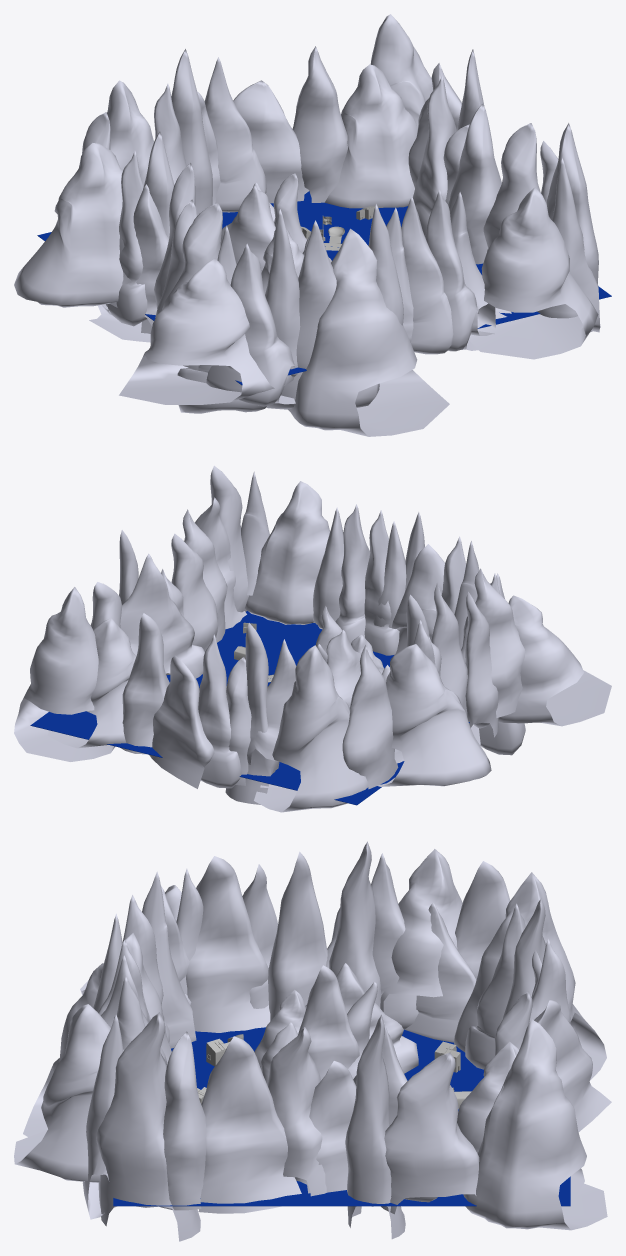
The model's file is fbx combined.fbx.
The picture shows the model from 3 angles, top to bottom: view 1: azimuth 30°, elevation 25°; view 2: azimuth 150°, elevation 25°; view 3: azimuth 270°, elevation 25°; orthographic projection. The views are drawn at different scales.
Visible parts, largest first — view 1: pCone46; view 2: pCone46; view 3: pCone46.
Part boxes in pixels (<box>): pCone46: <box>14,14,611,436</box>; pCone46: <box>14,465,611,812</box>; pCone46: <box>14,841,611,1241</box>.
Size of the model in its own units: 199 by 85.28 by 188.
